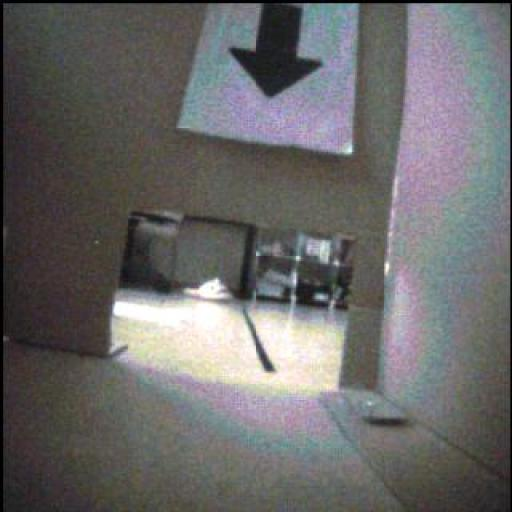arrow: (232, 4, 323, 99)
